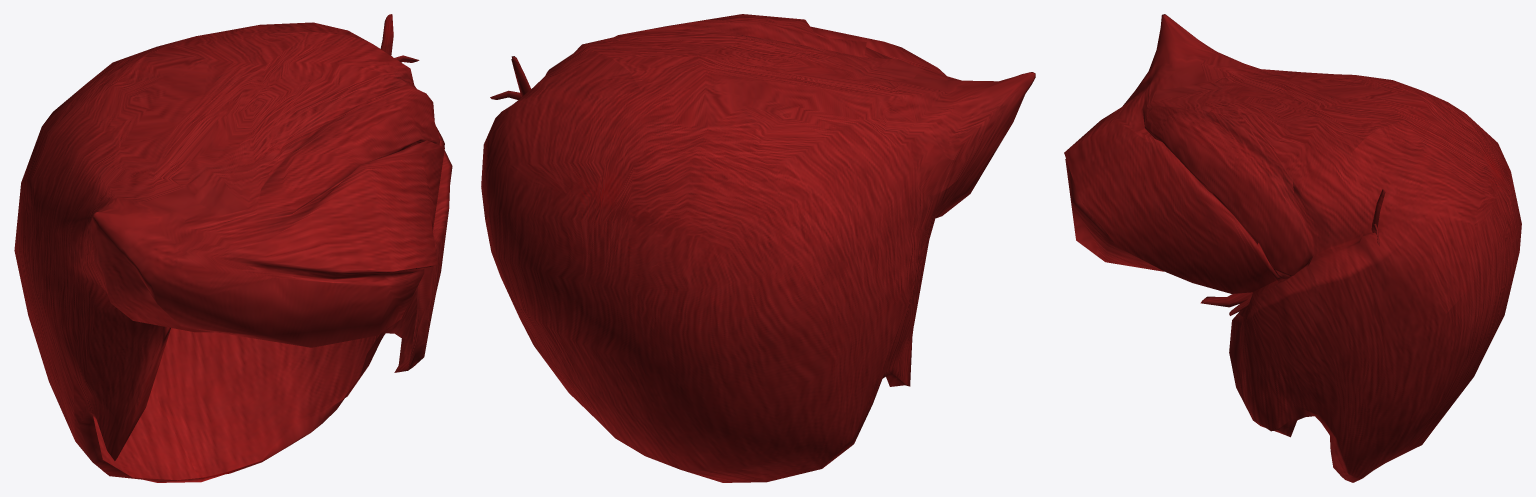
The model's file is Teo_hair.fbx.
The picture shows the model from 3 angles, left to right: view 1: azimuth 30°, elevation 25°; view 2: azimuth 150°, elevation 25°; view 3: azimuth 270°, elevation 25°; orthographic projection. The views are drawn at different scales.
Visible parts, largest first — view 1: Teojeo_hair; view 2: Teojeo_hair; view 3: Teojeo_hair.
Part boxes in pixels (x1,y1,x2,y2): Teojeo_hair: [14, 14, 452, 482]; Teojeo_hair: [481, 14, 1035, 482]; Teojeo_hair: [1064, 14, 1521, 482].
Bounding box in the file's own units: 13.15 × 11.79 × 13.18.
